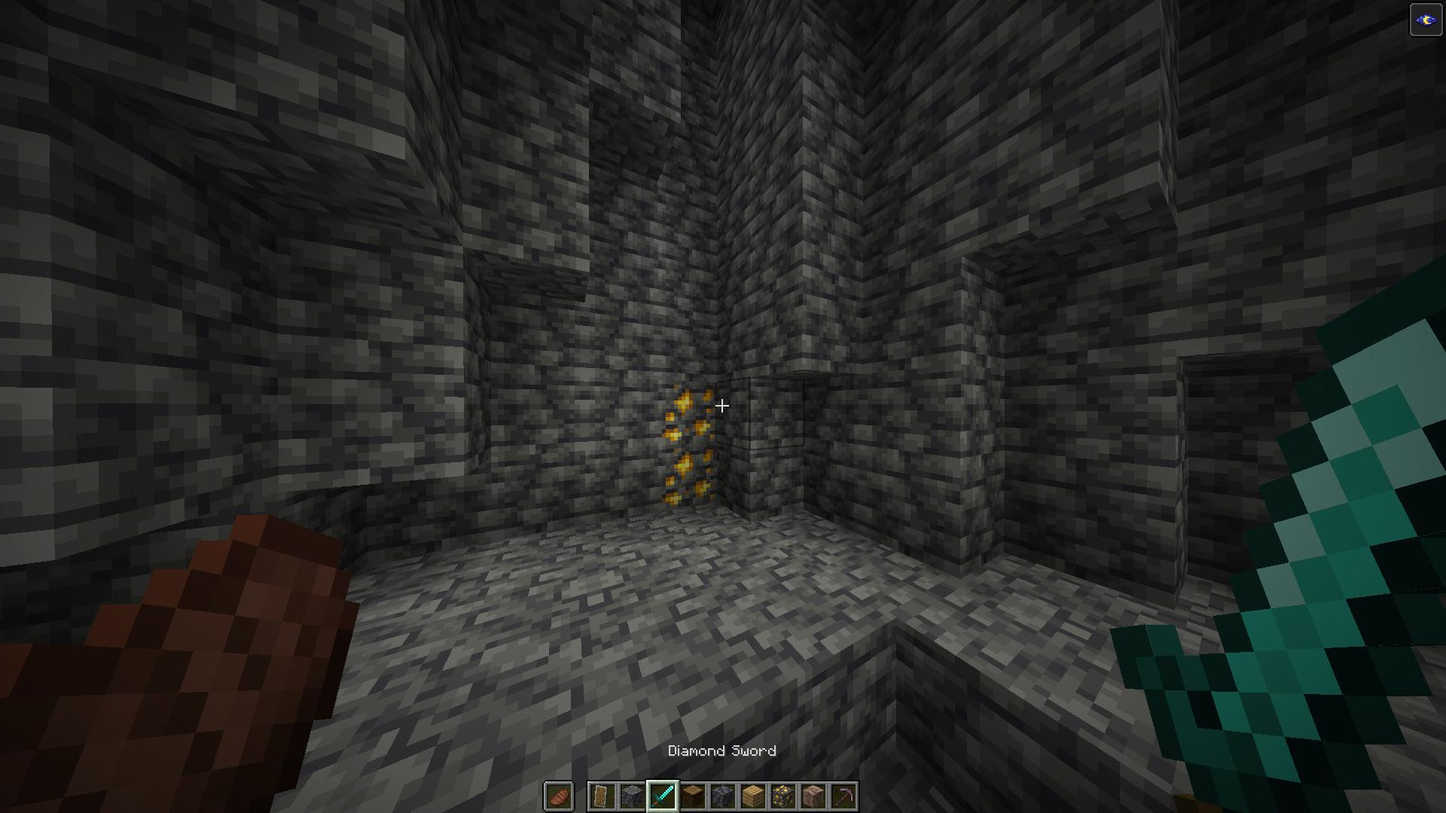gold ore: (663, 444, 717, 513), (663, 380, 717, 446)
